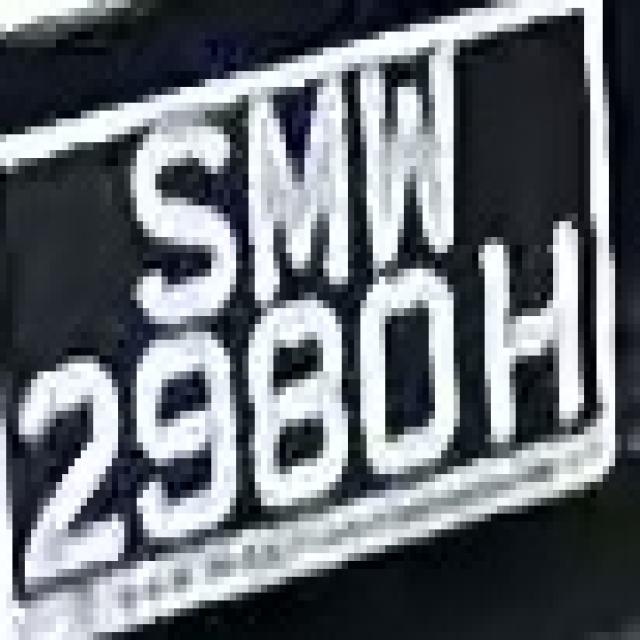0: (354, 261, 460, 482)
2: (19, 364, 143, 624)
8: (224, 261, 360, 529)
9: (124, 324, 267, 545)
H: (454, 205, 590, 450)
M: (218, 71, 366, 292)
S: (106, 103, 242, 324)
W: (342, 39, 472, 245)
